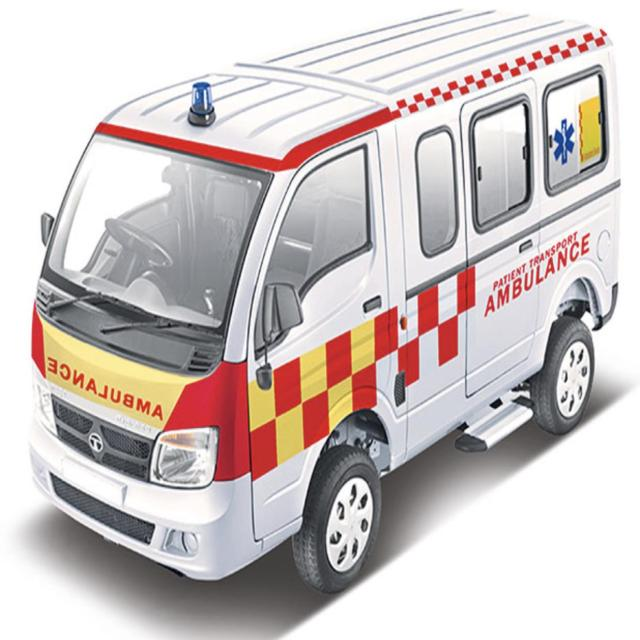ambulance: (21, 32, 624, 584)
